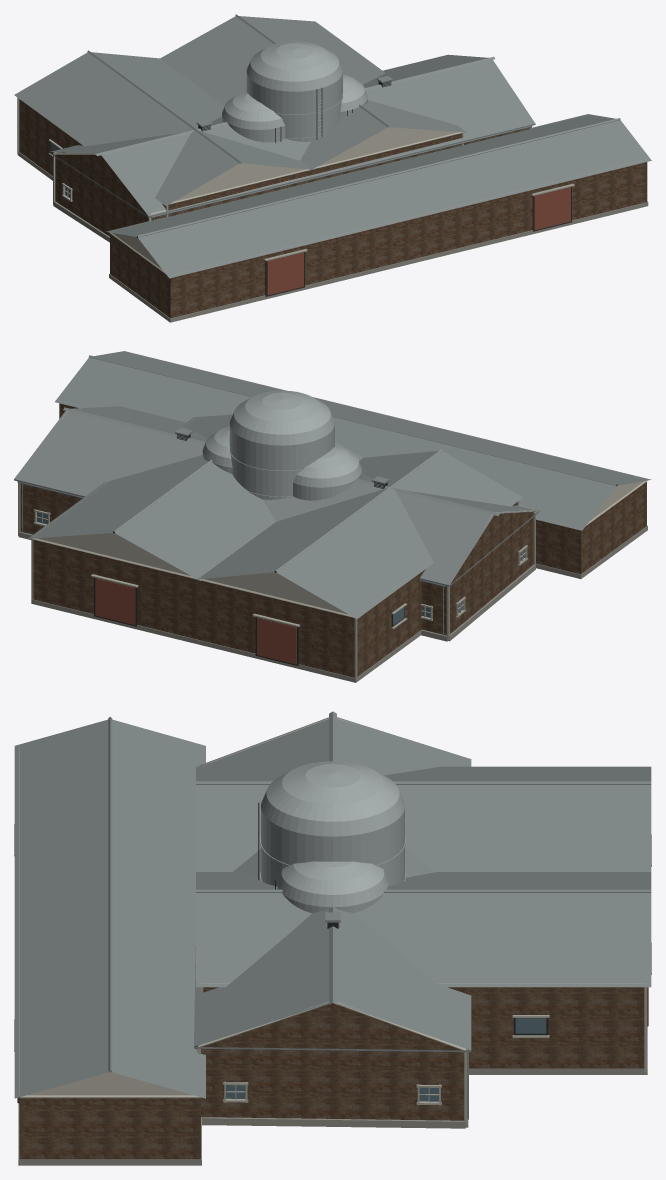
The model's file is valley-farm.glb.
3 views of the same model, one above another, from view 1: azimuth 30°, elevation 25°; view 2: azimuth 150°, elevation 25°; view 3: azimuth 270°, elevation 25° (orthographic). The views are drawn at different scales.
Parts seen in each view (by area): view 1: contour-dairy roof, contour-dairy siding, north-farm-barn roof, contour-tall-silo silo, north-farm-barn siding, contour-dairy paint, contour-twin-silos silo, contour-dairy stone, contour-dairy door, contour-dairy trim, north-farm-barn trim, contour-dairy dark; view 2: contour-dairy roof, contour-dairy siding, north-farm-barn roof, contour-tall-silo silo, north-farm-barn siding, contour-dairy paint, contour-twin-silos silo, contour-dairy door, contour-dairy stone, contour-dairy trim, north-farm-barn trim, north-farm-barn stone (+1 smaller); view 3: contour-dairy roof, north-farm-barn roof, contour-dairy siding, north-farm-barn siding, contour-tall-silo silo, contour-twin-silos silo, contour-dairy stone, north-farm-barn stone, contour-dairy paint, contour-dairy trim, north-farm-barn trim.
Part boxes in pixels (box(x1,y1,x2,y2)): contour-dairy roof: box(14, 14, 651, 278); contour-dairy siding: box(19, 99, 647, 318); north-farm-barn roof: box(49, 54, 535, 220); contour-tall-silo silo: box(246, 41, 343, 141); north-farm-barn siding: box(55, 128, 529, 236); contour-dairy paint: box(113, 127, 458, 268); contour-twin-silos silo: box(222, 74, 367, 142); contour-dairy stone: box(17, 152, 648, 322); contour-dairy door: box(267, 187, 570, 295); contour-dairy trim: box(17, 27, 645, 275); north-farm-barn trim: box(52, 57, 531, 221); contour-dairy dark: box(50, 142, 571, 296); contour-dairy roof: box(28, 351, 651, 618); contour-dairy siding: box(33, 403, 646, 677); north-farm-barn roof: box(14, 406, 539, 636); contour-tall-silo silo: box(229, 390, 334, 499); north-farm-barn siding: box(20, 483, 533, 635); contour-dairy paint: box(37, 481, 643, 614); contour-twin-silos silo: box(202, 426, 361, 500); contour-dairy door: box(95, 578, 296, 664); contour-dairy stone: box(31, 525, 647, 682); contour-dairy trim: box(31, 355, 647, 681); north-farm-barn trim: box(18, 408, 536, 640); north-farm-barn stone: box(18, 531, 535, 641); contour-dairy roof: box(14, 716, 651, 1098); north-farm-barn roof: box(194, 711, 471, 1119); contour-dairy siding: box(19, 987, 644, 1159); north-farm-barn siding: box(201, 1003, 464, 1120); contour-tall-silo silo: box(260, 761, 405, 886); contour-twin-silos silo: box(277, 861, 388, 913); contour-dairy stone: box(18, 1027, 647, 1165); north-farm-barn stone: box(201, 1117, 468, 1128); contour-dairy paint: box(27, 1072, 192, 1095); contour-dairy trim: box(14, 746, 651, 1098); north-farm-barn trim: box(197, 718, 468, 1126).
Bounding box in the file's own units: 50.6 × 14.11 × 38.66.
Materials: 10 (1 with a texture image).
